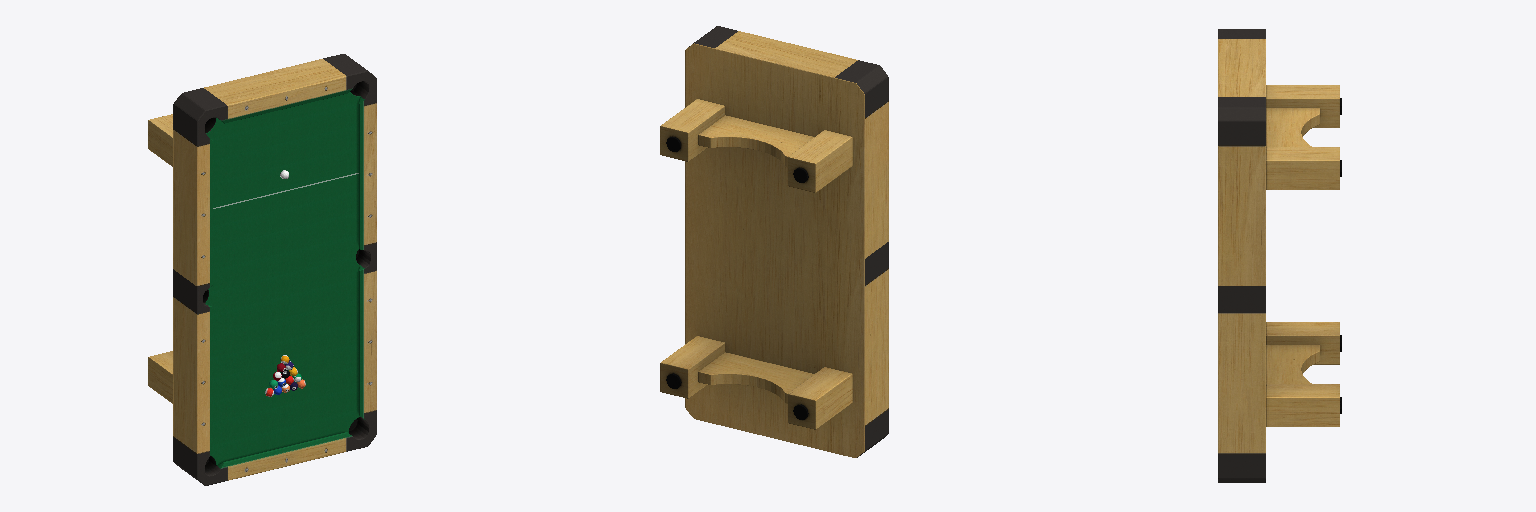
3 renders of one model, left to right at view 1: azimuth 30°, elevation 25°; view 2: azimuth 150°, elevation 25°; view 3: azimuth 270°, elevation 25°, orthographic.
Visible parts, largest first — view 1: 10523_Pool_Table_v1_SG; view 2: 10523_Pool_Table_v1_SG; view 3: 10523_Pool_Table_v1_SG.
Part boxes in pixels (left/top/right/bottom): 10523_Pool_Table_v1_SG: left=148, top=54, right=376, bottom=485; 10523_Pool_Table_v1_SG: left=660, top=26, right=888, bottom=457; 10523_Pool_Table_v1_SG: left=1218, top=29, right=1341, bottom=482.
Size of the model in its own units: 127 by 254 by 76.36.
Materials: 1 (1 with a texture image).